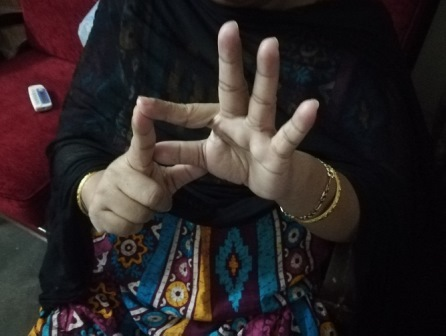k: (118, 19, 319, 216)
